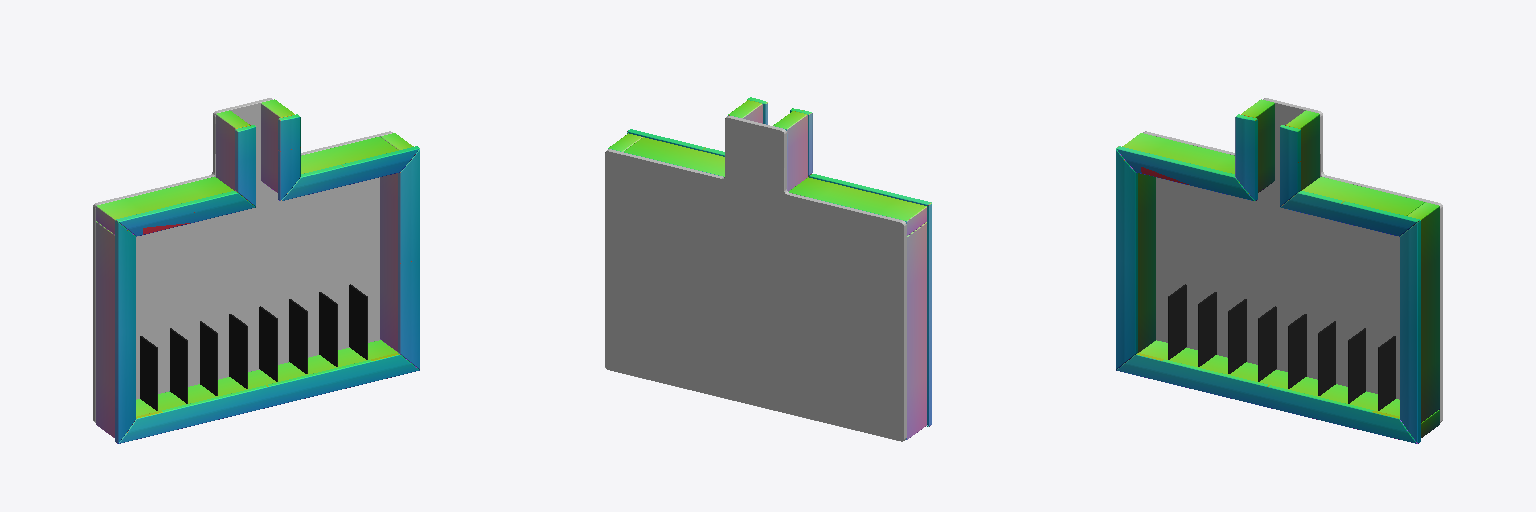
3 views of the same model, side by side, from view 1: azimuth 30°, elevation 25°; view 2: azimuth 150°, elevation 25°; view 3: azimuth 330°, elevation 25° (orthographic).
Size of the model in its own units: 10.1 by 9.05 by 1.55.
Materials: 5 (2 with a texture image).